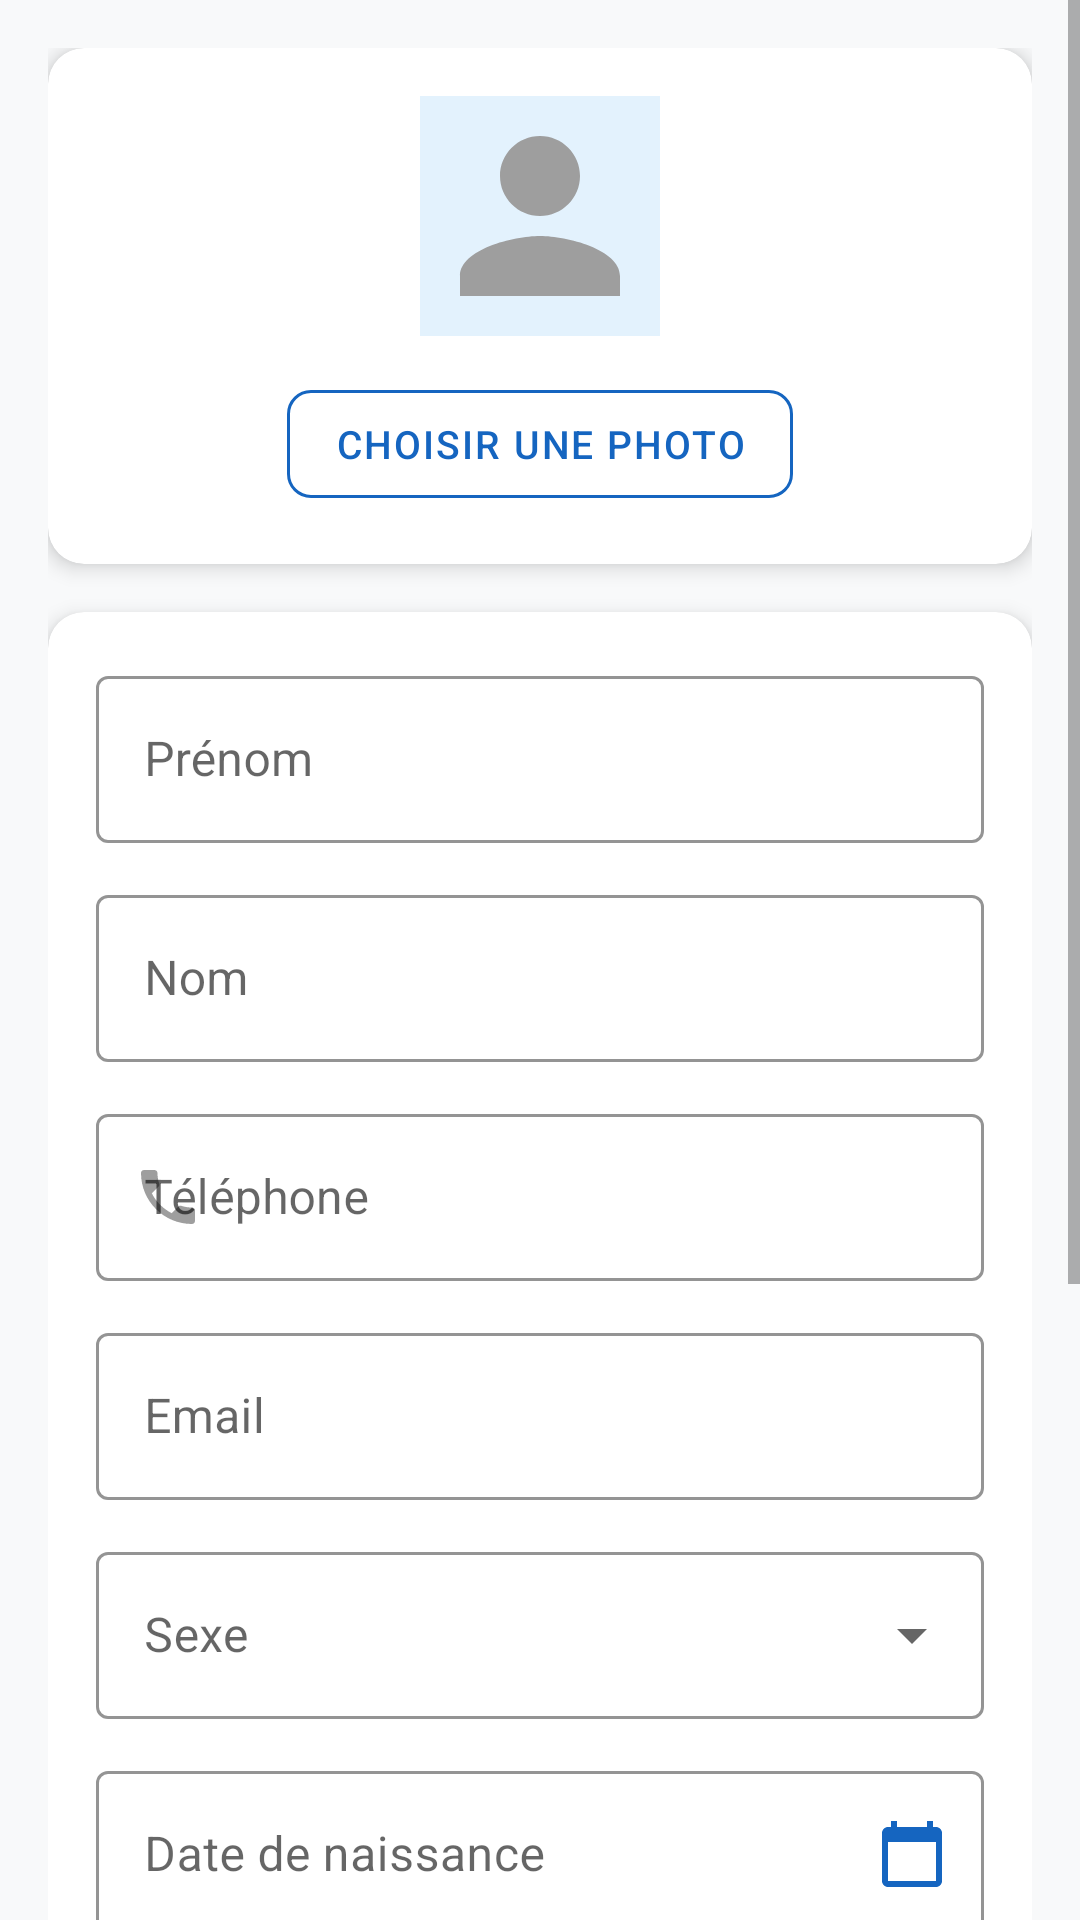

Icon click points for this 1080×1920 phone screenshot, format point (x, y):
person: point (540, 216)
